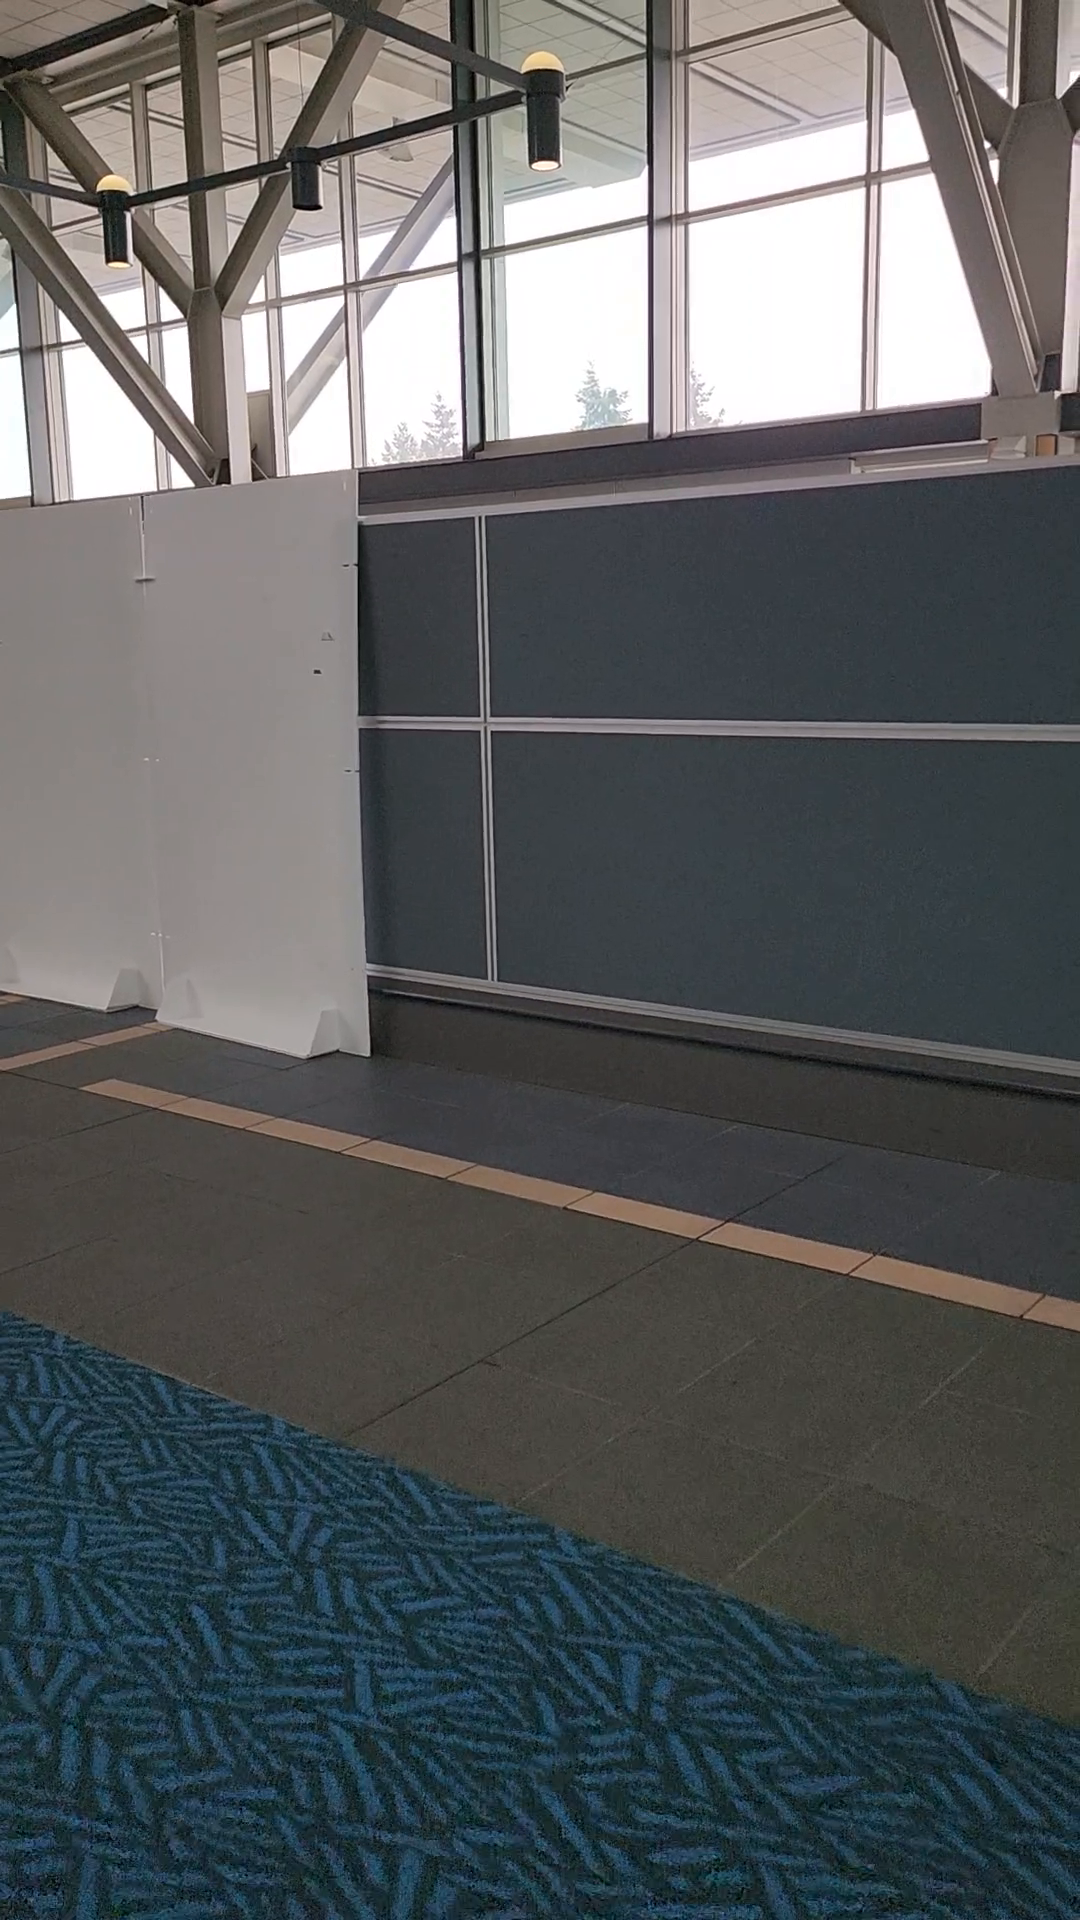Defect: (468, 1337, 506, 1379)
